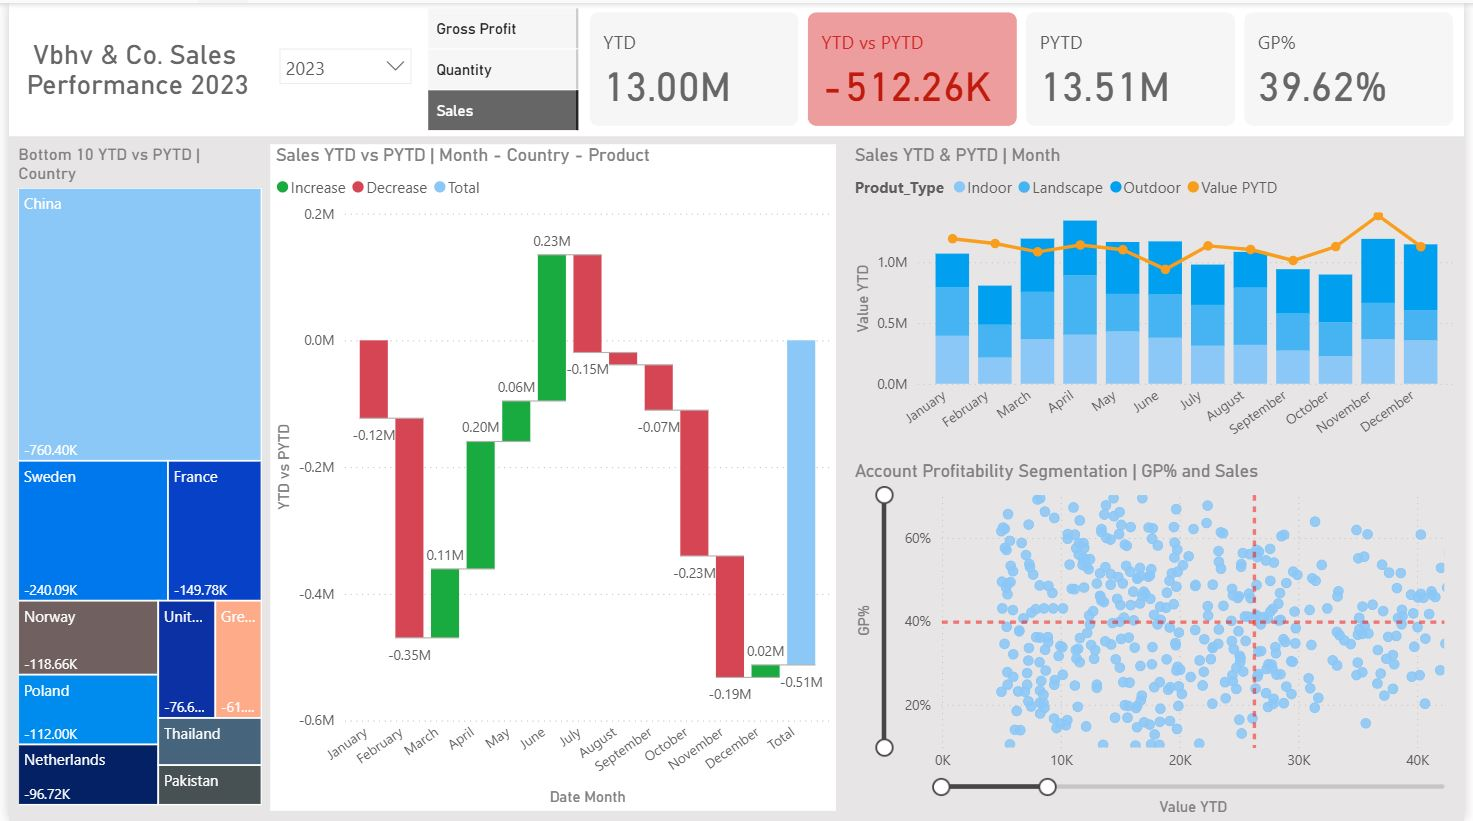

The page's visual inventory and layout, read from the dashboard file:
{"tool":"powerbi","page":{"name":"Performance Report","canvas":[1280,720],"ordinal":0},"visuals":[{"type":"cardVisual","fields":{"Data":["_Measures.Switch_YTD","_Measures.YTD vs PYTD","_Measures.Switch_PYTD","_Measures.GP%"]},"box":[506.2,3.8,773.8,110],"z":0},{"type":"advancedSlicerVisual","fields":{"Values":["Slicer_Val.Values"]},"box":[363.8,0,142.5,117.5],"z":1000},{"type":"slicer","fields":{"Values":["Dim_Date.Date.Variation.Date Hierarchy.Year"]},"box":[227.5,30,136.2,57.5],"z":2000},{"type":"treemap","title":"Bottom 10 YTD vs PYTD | Country","fields":{"Values":["_Measures.YTD vs PYTD"],"Group":["Dim_Accounts.country"]},"box":[3.8,123.8,224,586.2],"z":3000},{"type":"waterfallChart","fields":{"Y":["_Measures.YTD vs PYTD"],"Category":["Dim_Date.Date.Variation.Date Hierarchy.Month","Dim_Accounts.country","Dim_Product.Produt_Type","Dim_Product.Product_Name"]},"box":[230,123.8,497.5,586.2],"z":4000},{"type":"lineStackedColumnComboChart","fields":{"Category":["Dim_Date.Date.Variation.Date Hierarchy.Quarter","Dim_Date.Date.Variation.Date Hierarchy.Month"],"Y":["_Measures.Switch_YTD"],"Y2":["_Measures.Switch_PYTD"],"Series":["Dim_Product.Produt_Type"]},"box":[738.8,123.8,538.8,278.8],"z":5000},{"type":"scatterChart","fields":{"Y":["_Measures.GP%"],"X":["_Measures.Switch_YTD"],"Category":["Dim_Accounts.Account"]},"box":[738.8,402.5,538.8,317.5],"z":6000},{"type":"card","fields":{"Values":["_Measures._Report title"]},"box":[0,0,227.5,115],"z":6001}]}

Visuals, with their boxes in screenshot pixels (x1, y1, x2, y2), scaled from the page's 1280x720 canvas onto the 1473x821 screenshot:
cardVisual - _Measures.Switch_YTD x _Measures.YTD vs PYTD: box=[583, 4, 1472, 130]
advancedSlicerVisual - Slicer_Val.Values: box=[419, 0, 583, 134]
slicer - Dim_Date.Date.Variation.Date Hierarchy.Year: box=[262, 34, 419, 100]
"Bottom 10 YTD vs PYTD | Country" treemap: box=[4, 141, 262, 810]
waterfallChart - _Measures.YTD vs PYTD x Dim_Date.Date.Variation.Date Hierarchy.Month: box=[265, 141, 837, 810]
lineStackedColumnComboChart - Dim_Date.Date.Variation.Date Hierarchy.Quarter x Dim_Date.Date.Variation.Date Hierarchy.Month: box=[850, 141, 1470, 459]
scatterChart - _Measures.GP% x _Measures.Switch_YTD: box=[850, 459, 1470, 820]
card - _Measures._Report title: box=[0, 0, 262, 131]
